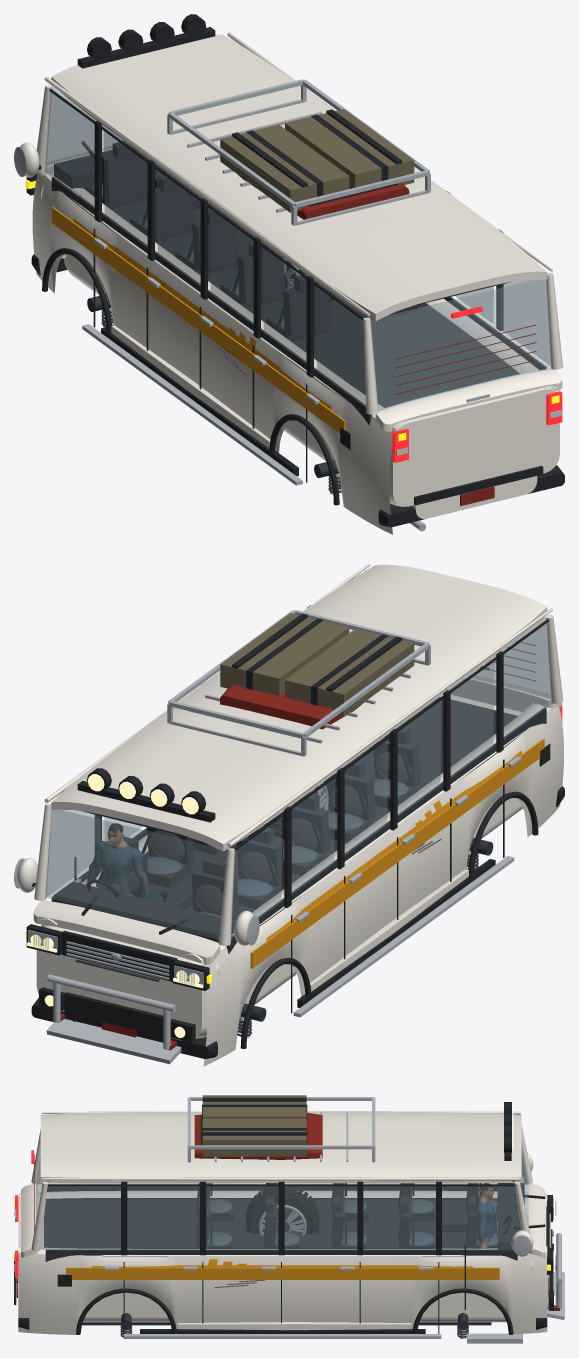
Rendered from tourist-coaster.glb.
3 renders of one model, top to bottom at view 1: azimuth 30°, elevation 25°; view 2: azimuth 150°, elevation 25°; view 3: azimuth 270°, elevation 25°, orthographic. The views are drawn at different scales.
Parts seen in each view (by area): view 1: body_high, body_low, cosmetic_carrier (×2), cosmetic_basket, cosmetic_lamps, cosmetic_trail (×2), cosmetic_stripe; view 2: body_high, body_low, cosmetic_carrier (×2), cosmetic_trail (×2), cosmetic_basket, cosmetic_lamps, cosmetic_stripe; view 3: body_high, body_low, cosmetic_carrier (×2), cosmetic_trail (×2), cosmetic_basket, wheel_high, cosmetic_stripe (×2), cosmetic_lamps, rim_touring, wheel_low.
Part boxes in pixels (<box>): body_high: <box>14,32,564,534</box>; body_low: <box>20,87,562,530</box>; cosmetic_carrier (×2): <box>220,109,414,212</box>; cosmetic_basket: <box>167,79,430,225</box>; cosmetic_lamps: <box>77,14,215,68</box>; cosmetic_trail (×2): <box>82,324,302,485</box>; cosmetic_stripe: <box>73,219,330,409</box>; body_high: <box>14,563,564,1066</box>; body_low: <box>15,605,563,1061</box>; cosmetic_carrier (×2): <box>220,613,414,716</box>; cosmetic_trail (×2): <box>46,856,514,1064</box>; cosmetic_basket: <box>167,610,430,756</box>; cosmetic_lamps: <box>77,768,215,822</box>; cosmetic_stripe: <box>266,751,521,940</box>; body_high: <box>14,1111,559,1342</box>; body_low: <box>14,1148,559,1343</box>; cosmetic_carrier (×2): <box>202,1095,307,1156</box>; cosmetic_trail (×2): <box>124,1233,564,1338</box>; cosmetic_basket: <box>187,1097,375,1162</box>; wheel_high: <box>246,1186,319,1233</box>; cosmetic_stripe (×2): <box>92,1265,472,1267</box>; cosmetic_lamps: <box>504,1102,513,1160</box>; rim_touring: <box>258,1205,306,1234</box>; wheel_low: <box>249,1195,315,1233</box>.
Size of what is drawn, in the model's own units: 2.51 by 2.73 by 6.88.
